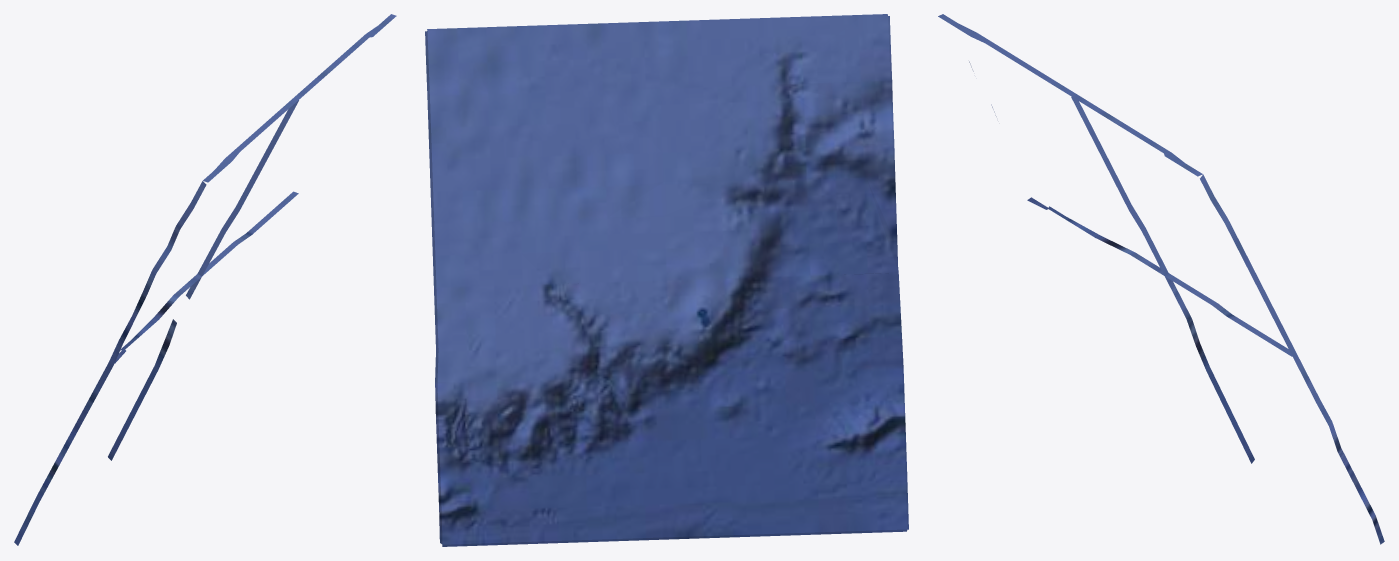
3 renders of one model, left to right at view 1: azimuth 30°, elevation 25°; view 2: azimuth 150°, elevation 25°; view 3: azimuth 270°, elevation 25°, orthographic. The views are drawn at different scales.
Bounding box in the file's own units: 155987 × 143230 × 136986.
1 material, 1 textured.
